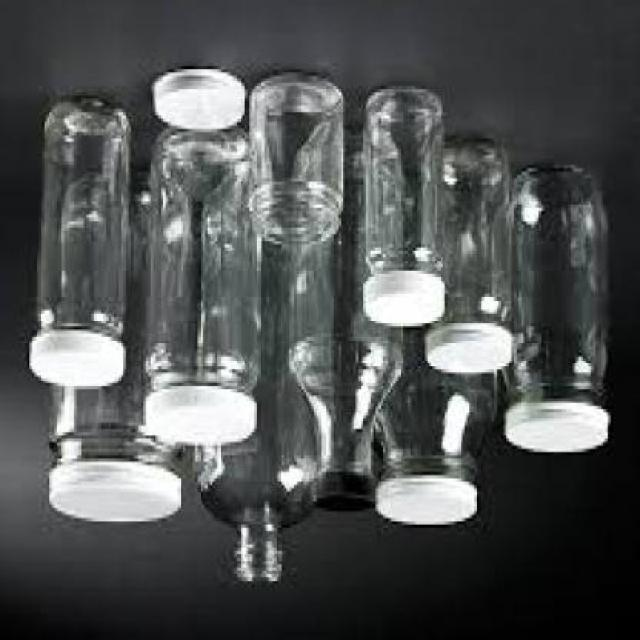GLASS: (194, 237, 324, 588), (284, 124, 401, 478), (47, 174, 178, 472), (140, 129, 254, 396), (500, 168, 606, 408), (37, 106, 126, 340), (371, 317, 497, 481), (247, 75, 341, 248), (363, 89, 440, 280), (430, 145, 507, 330)
METAL: (47, 465, 176, 527), (140, 386, 252, 445), (148, 70, 244, 132), (27, 334, 121, 392), (370, 478, 475, 528), (502, 406, 606, 456), (362, 271, 444, 332), (423, 324, 509, 382)
PLASTIC: (312, 478, 370, 518)
